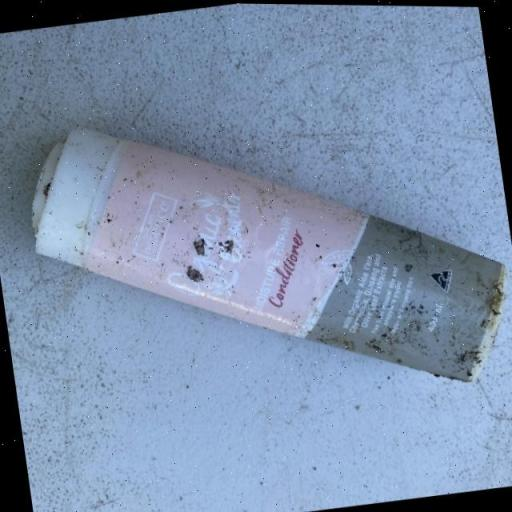plastic: (16, 66, 512, 440)
